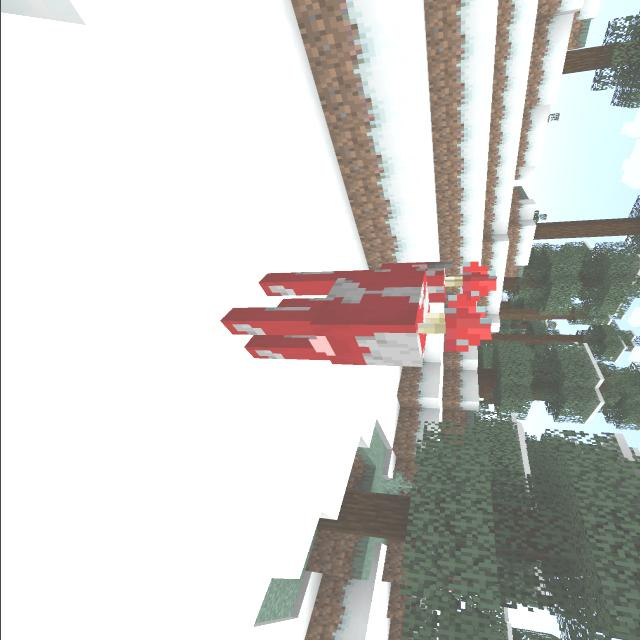Mooshroom: (206, 254, 504, 374)
